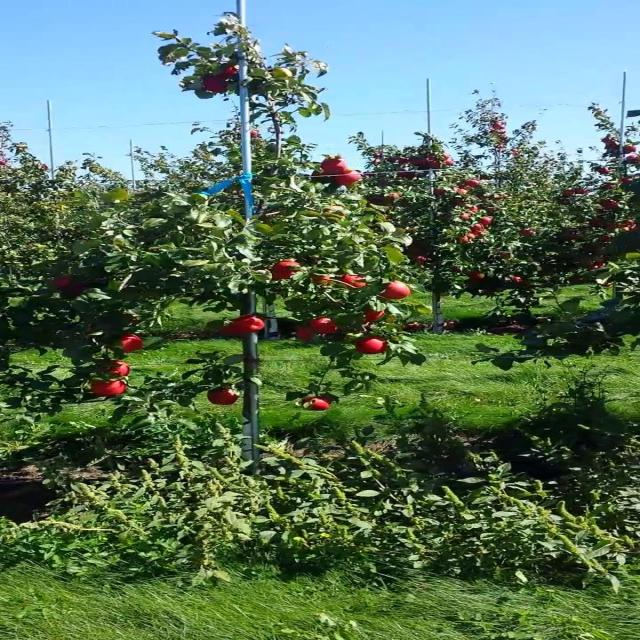apple: (89, 379, 125, 396), (380, 280, 410, 300), (232, 314, 265, 332), (306, 316, 338, 334), (354, 336, 386, 354), (269, 260, 298, 279), (206, 388, 238, 405), (319, 157, 346, 175), (332, 169, 360, 185), (201, 76, 228, 92), (120, 334, 143, 352), (301, 397, 330, 411), (105, 360, 128, 376), (218, 322, 244, 335), (294, 325, 315, 341), (270, 66, 292, 80), (322, 204, 347, 216), (363, 308, 384, 322), (342, 275, 366, 287), (217, 64, 237, 78), (308, 170, 330, 182), (51, 276, 71, 288), (310, 274, 332, 284), (66, 284, 84, 294), (309, 170, 327, 180)
